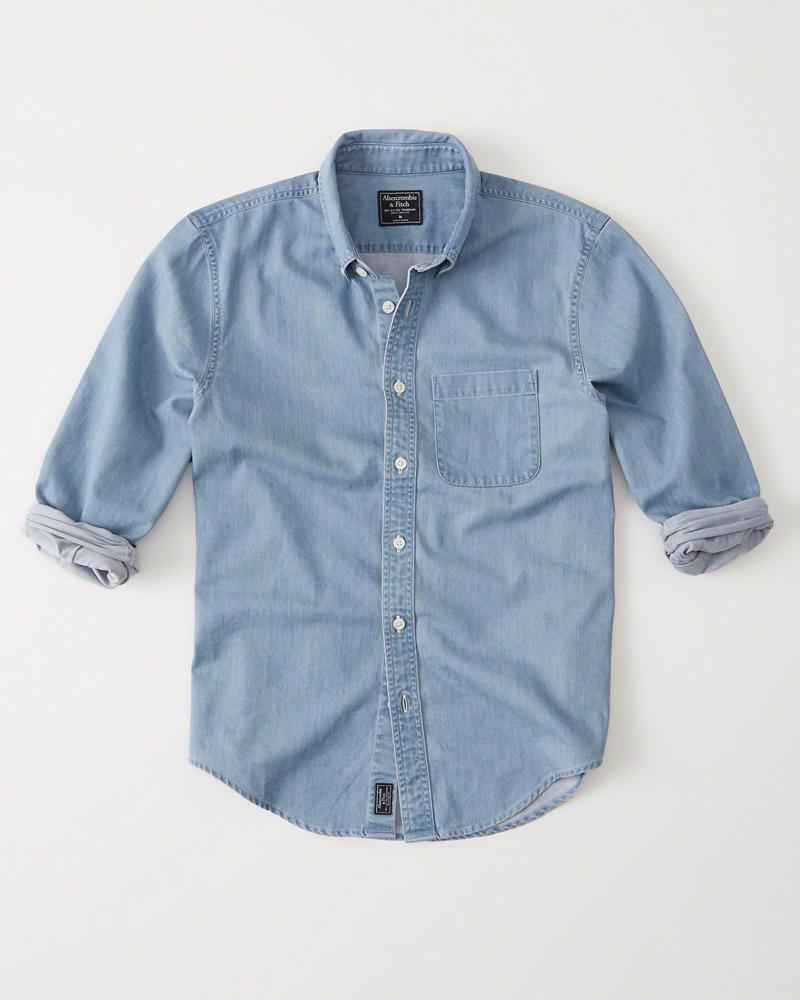teeshirt: (30, 124, 779, 846)
